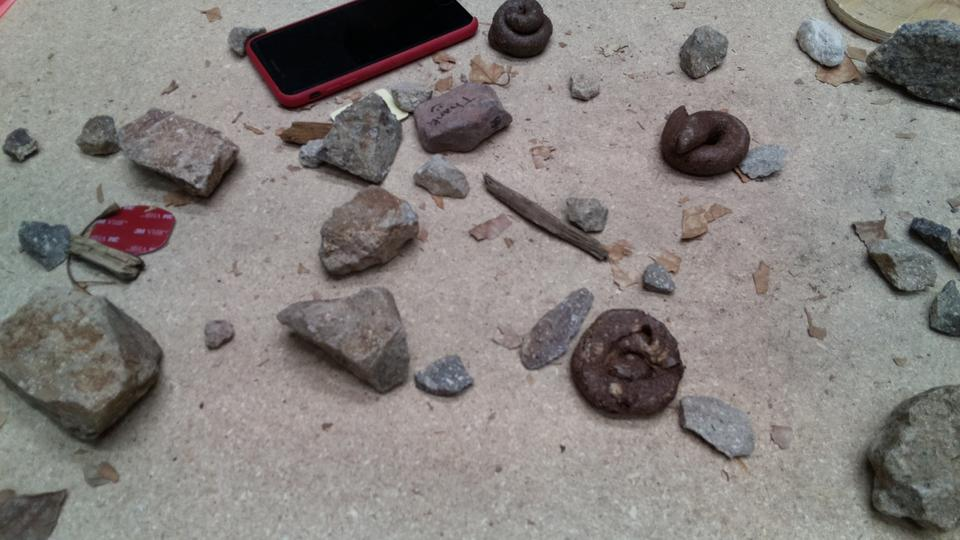poop: (569, 307, 686, 422), (658, 101, 753, 181), (486, 1, 556, 61)
